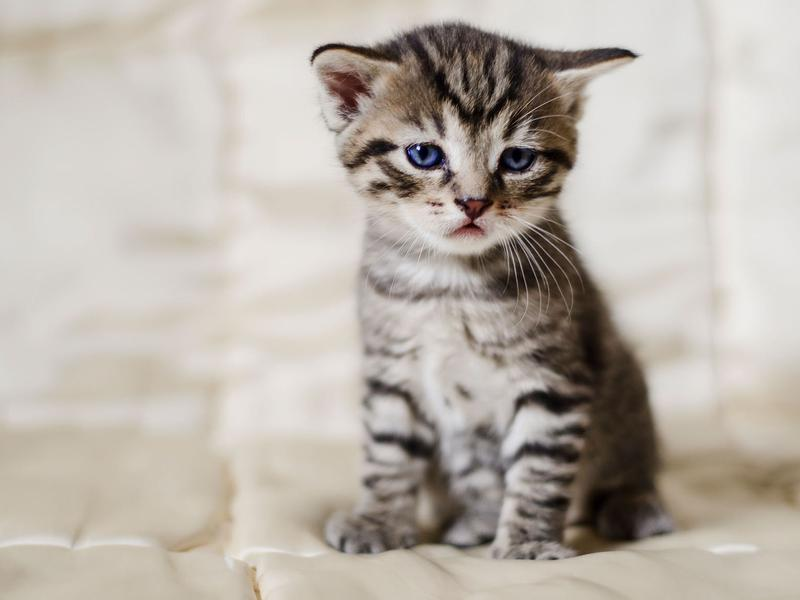cat: (305, 15, 685, 559)
